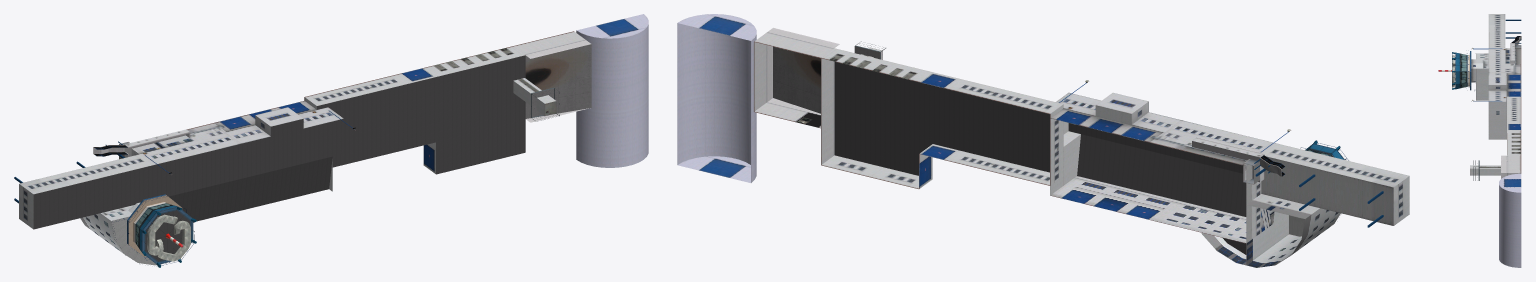
File: DEMO_Tower.OBJ
3 renders of one model, left to right at view 1: azimuth 30°, elevation 25°; view 2: azimuth 150°, elevation 25°; view 3: azimuth 270°, elevation 25°, orthographic. The views are drawn at different scales.
Visible parts, largest first — view 1: part_4_LOD_100, part_0_LOD_100, part_5_LOD_100, part_7_LOD_100, part_6_LOD_100, part_2_LOD_100, part_1_LOD_100; view 2: part_0_LOD_100, part_4_LOD_100, part_5_LOD_100, part_6_LOD_100, part_7_LOD_100; view 3: part_0_LOD_100, part_5_LOD_100, part_6_LOD_100, part_7_LOD_100, part_2_LOD_100, part_3_LOD_100.
Part boxes in pixels (<box>): part_4_LOD_100: <box>33,55,525,229</box>; part_0_LOD_100: <box>304,14,648,173</box>; part_5_LOD_100: <box>19,101,343,229</box>; part_7_LOD_100: <box>112,44,591,267</box>; part_6_LOD_100: <box>80,129,190,253</box>; part_2_LOD_100: <box>147,214,190,261</box>; part_1_LOD_100: <box>111,216,156,265</box>; part_0_LOD_100: <box>677,14,1063,189</box>; part_4_LOD_100: <box>834,62,1246,254</box>; part_5_LOD_100: <box>1050,92,1409,243</box>; part_6_LOD_100: <box>1050,137,1340,267</box>; part_7_LOD_100: <box>773,41,1348,160</box>; part_0_LOD_100: <box>1470,96,1521,267</box>; part_5_LOD_100: <box>1488,14,1521,139</box>; part_6_LOD_100: <box>1471,36,1521,100</box>; part_7_LOD_100: <box>1438,48,1501,180</box>; part_2_LOD_100: <box>1452,55,1455,87</box>; part_3_LOD_100: <box>1505,19,1521,43</box>.
Size of the model in its own units: 142 by 28.82 by 27.74.
